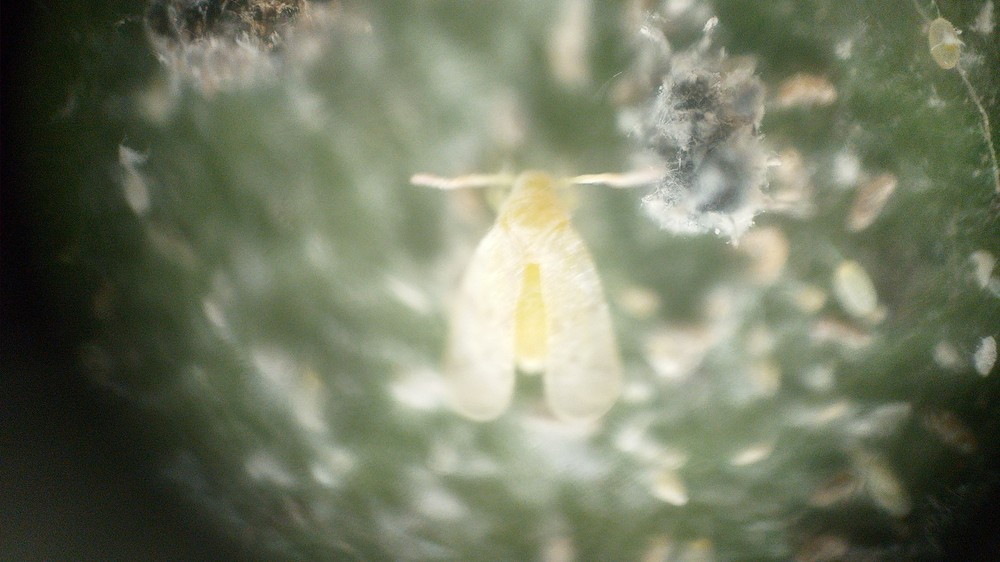Mosca Blanca: (370, 140, 687, 443)
